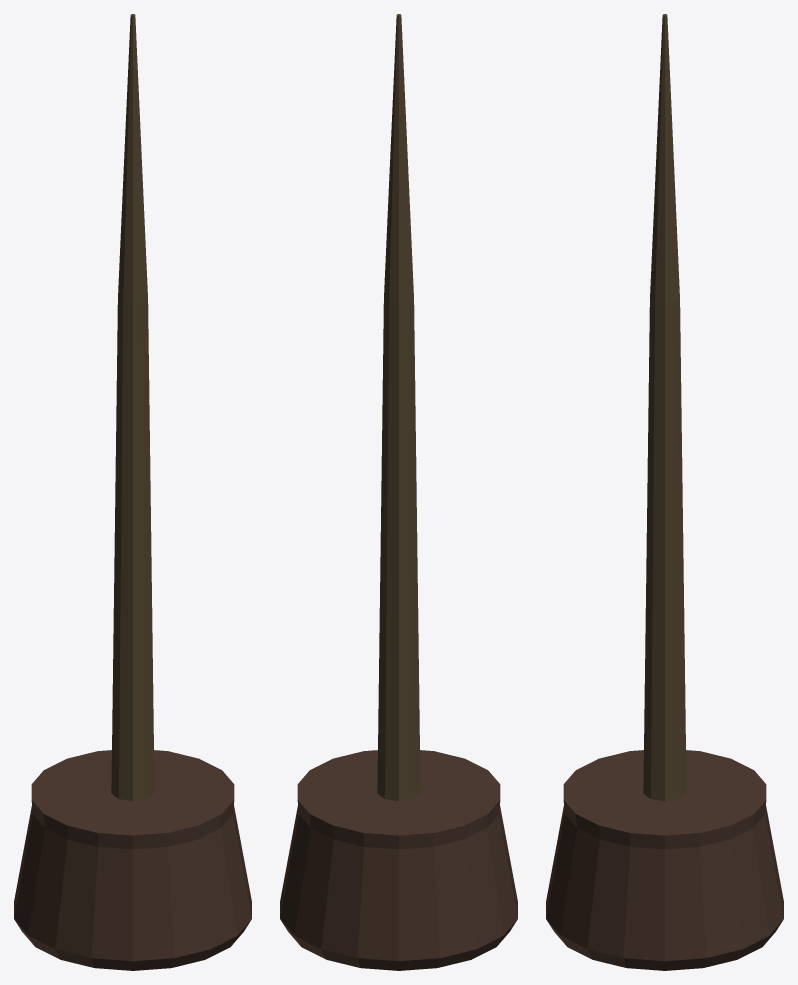
File: pineLow.glb
The picture shows the model from 3 angles, left to right: view 1: azimuth 30°, elevation 25°; view 2: azimuth 150°, elevation 25°; view 3: azimuth 270°, elevation 25°; orthographic projection.
Parts seen in each view (by area): view 1: pineLow; view 2: pineLow; view 3: pineLow.
Boxes of the visible parts, bbox=[...] form: pineLow: bbox=[14, 14, 251, 970]; pineLow: bbox=[280, 14, 517, 970]; pineLow: bbox=[546, 14, 783, 970].
Size of the model in its own units: 0.3 by 1.25 by 0.2955.
